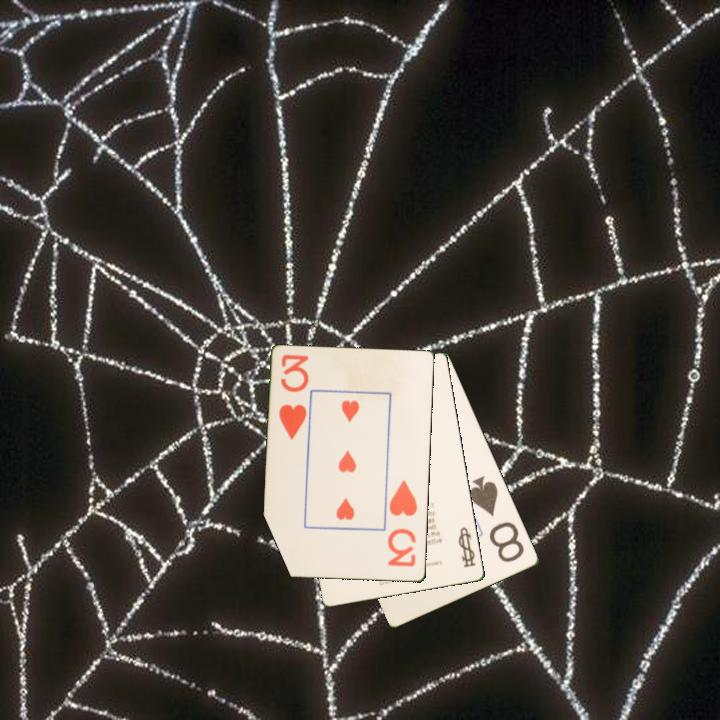3h: (384, 477, 421, 570), (276, 351, 312, 443)
8s: (466, 472, 528, 565)
JK: (455, 524, 479, 571)
